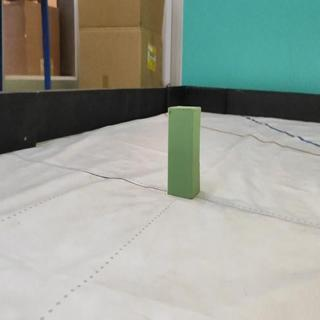greenbox: (166, 104, 202, 201)
